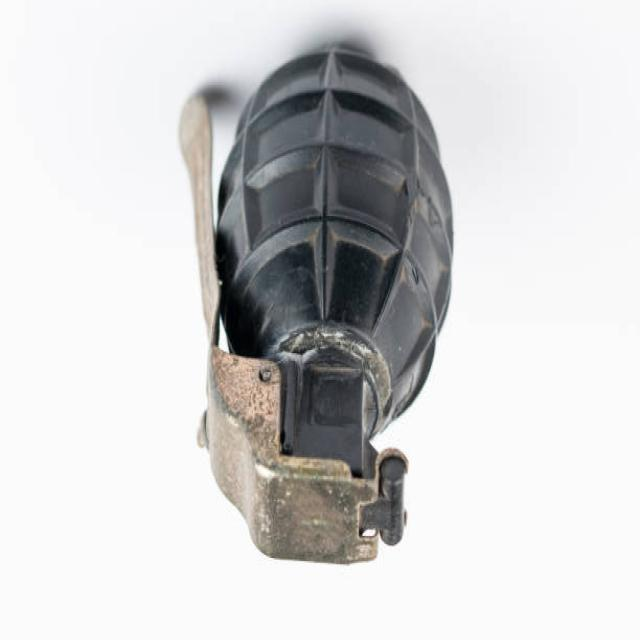grenade: (173, 47, 467, 586)
